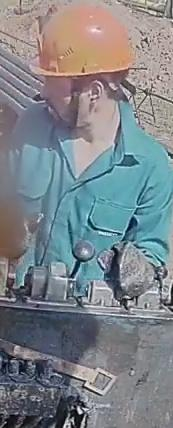gloves: (95, 236, 164, 302)
helmet: (27, 1, 134, 91)
vest: (8, 98, 172, 298)
